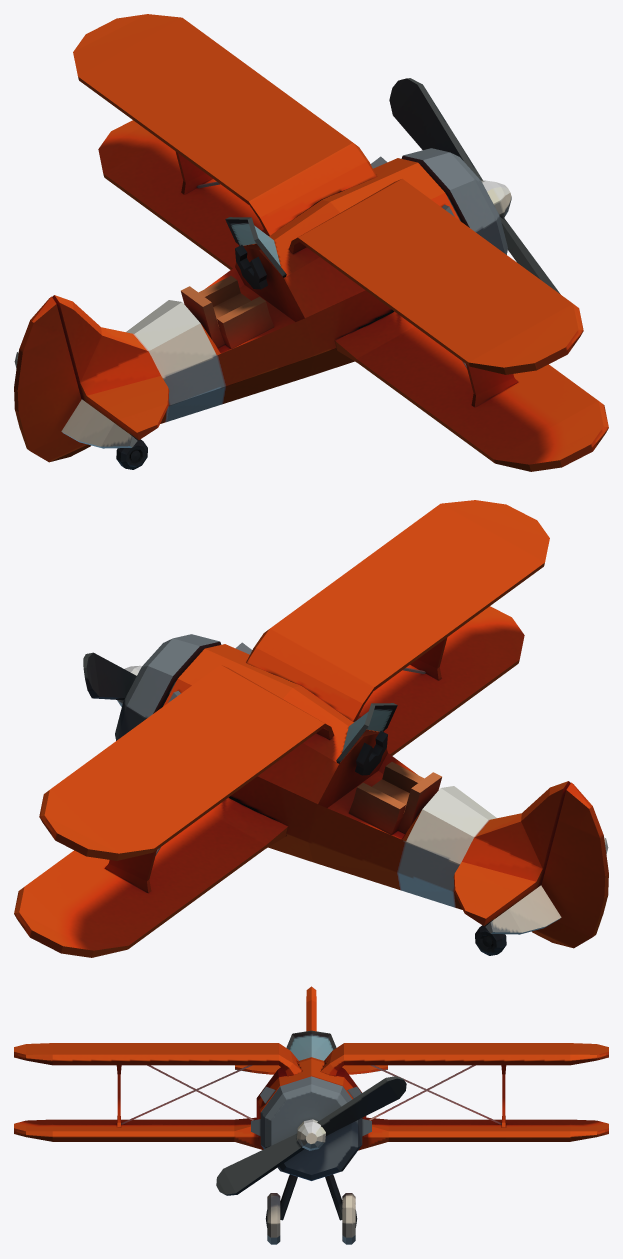
File: airplane.gltf
3 views of the same model, one above another, from view 1: azimuth 30°, elevation 25°; view 2: azimuth 150°, elevation 25°; view 3: azimuth 270°, elevation 25° (orthographic). The views are drawn at different scales.
Parts seen in each view (by area): view 1: node-0; view 2: node-0; view 3: node-0.
Boxes of the visible parts, x1,y1,x2,y2 form: node-0: (14,14,608,471); node-0: (14,500,608,957); node-0: (14,986,608,1244).
Size of the model in its own units: 2.43 by 1.21 by 3.78.
